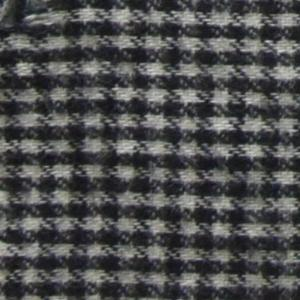Damage: (1, 1, 75, 57)
